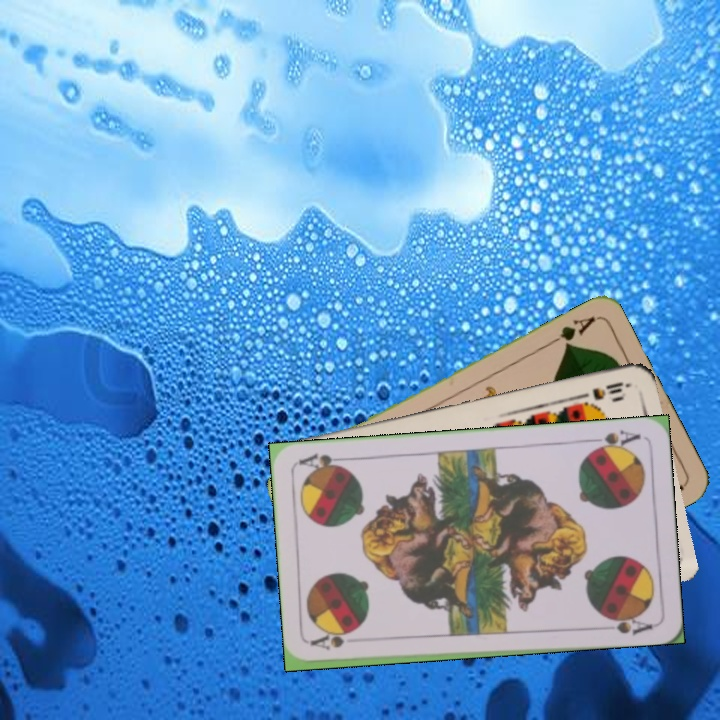GA: (544, 312, 598, 350)
S10: (573, 378, 632, 403)
SA: (584, 425, 643, 455), (308, 632, 347, 653)
